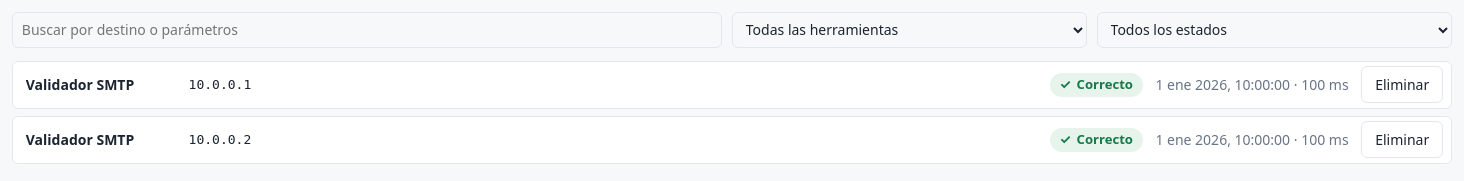
Test case: filtro por texto › busca también en los parámetros, no solo en el destino
The width and height of the screenshot is (1464, 181).
Type "destino.unico" into the search field named "Buscar en el historial" at (367, 30), box top-left (12, 12), bottom-right (722, 48)
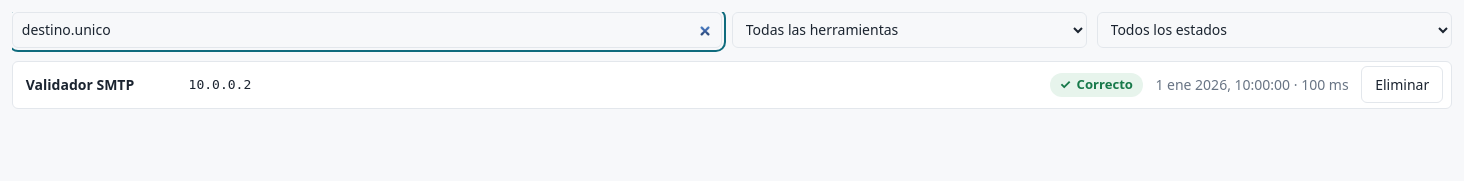
expect the list item shows "10.0.0.2": met, box top-left (21, 66), bottom-right (1353, 103)
expect the number of list items is 1: met, box top-left (12, 61), bottom-right (1452, 109)
